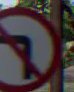Don't turn left: (1, 5, 62, 90)
